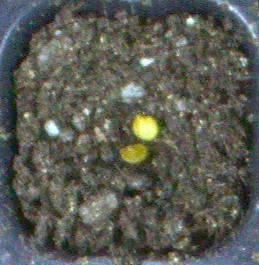chilli seed: (132, 115, 157, 140), (120, 144, 147, 162)
